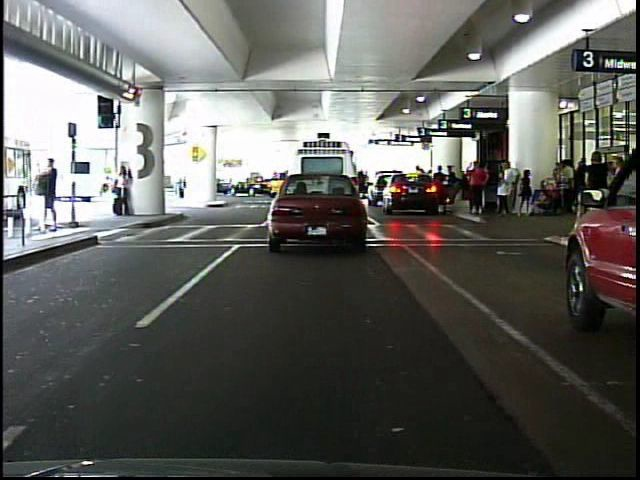person: (578, 148, 614, 232), (39, 151, 64, 236), (112, 160, 135, 218), (167, 159, 194, 203), (469, 161, 488, 217)
